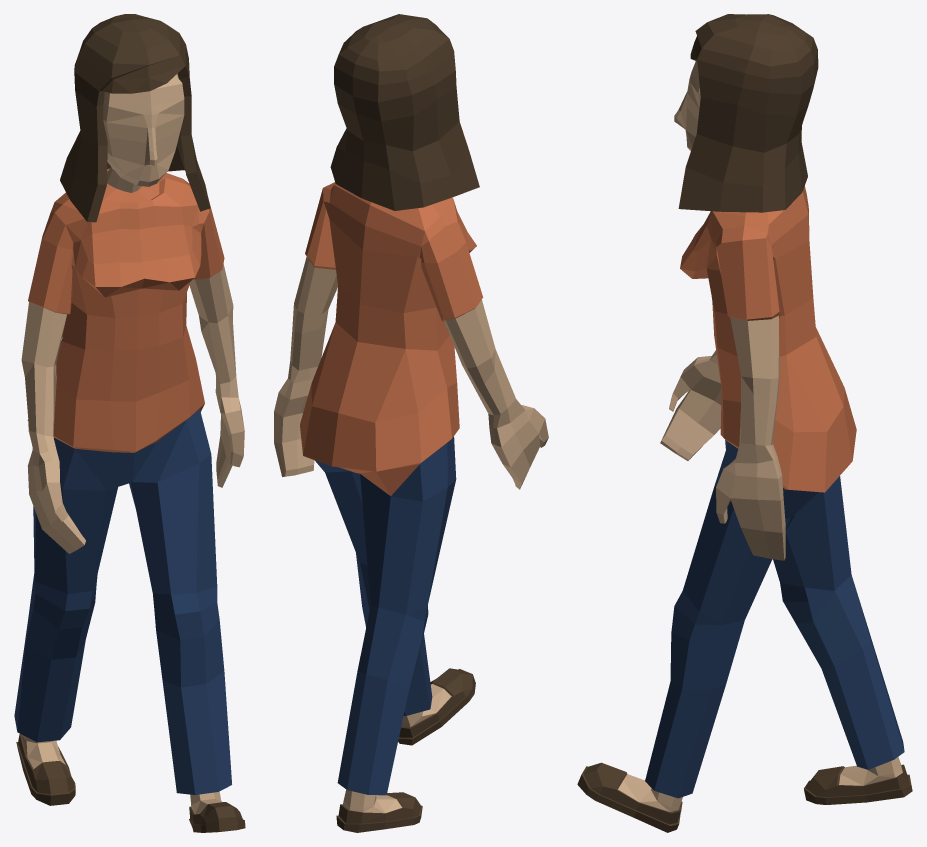
File: 50 People_female_1.fbx
3 renders of one model, left to right at view 1: azimuth 30°, elevation 25°; view 2: azimuth 150°, elevation 25°; view 3: azimuth 270°, elevation 25°, orthographic. The views are drawn at different scales.
Parts seen in each view (by area): view 1: Female_Walking36; view 2: Female_Walking36; view 3: Female_Walking36.
Part boxes in pixels (box(x1,y1,x2,y2)): Female_Walking36: box(14, 14, 245, 832); Female_Walking36: box(274, 14, 548, 832); Female_Walking36: box(577, 14, 912, 832).
Size of the model in its own units: 11.56 by 37.22 by 14.14.
